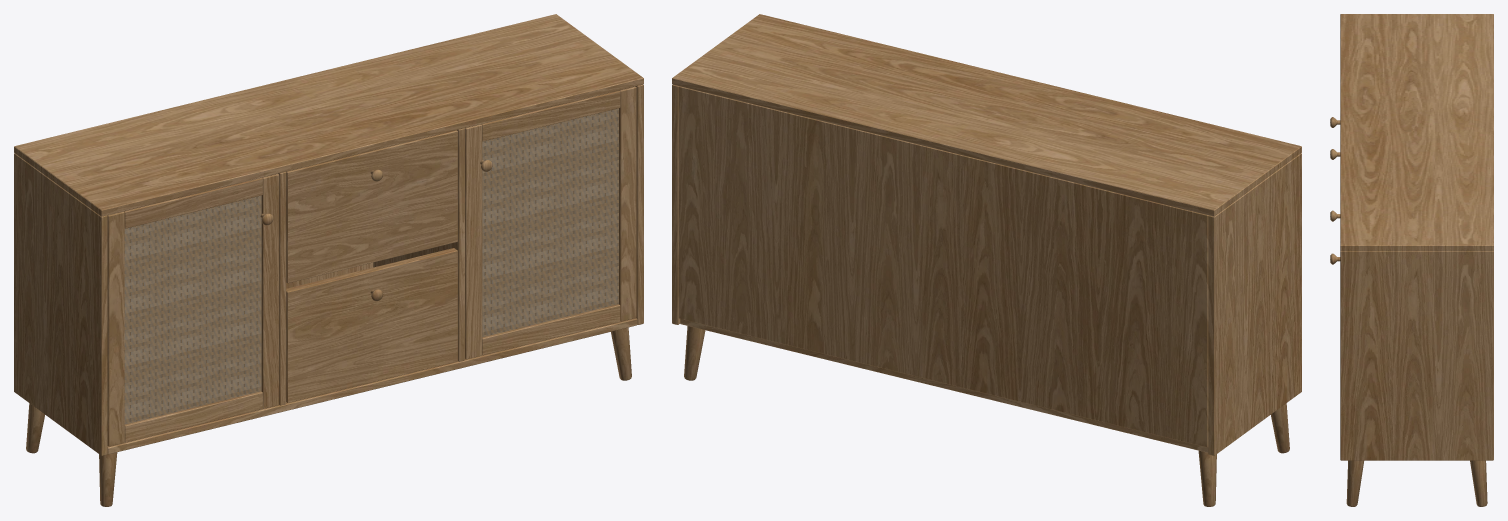
Rendered from aparador_rejilla_150.glb.
The picture shows the model from 3 angles, left to right: view 1: azimuth 30°, elevation 25°; view 2: azimuth 150°, elevation 25°; view 3: azimuth 270°, elevation 25°; orthographic projection. The views are drawn at different scales.
Parts seen in each view (by area): view 1: aparador_rejilla_150; view 2: aparador_rejilla_150; view 3: aparador_rejilla_150.
Part boxes in pixels (box(x1,y1,x2,y2)): aparador_rejilla_150: box(14, 14, 643, 506); aparador_rejilla_150: box(672, 14, 1301, 506); aparador_rejilla_150: box(1330, 14, 1493, 506).
Bounding box in the file's own units: 1.5 × 0.801 × 0.4479.
Materials: 2 (2 with a texture image).
